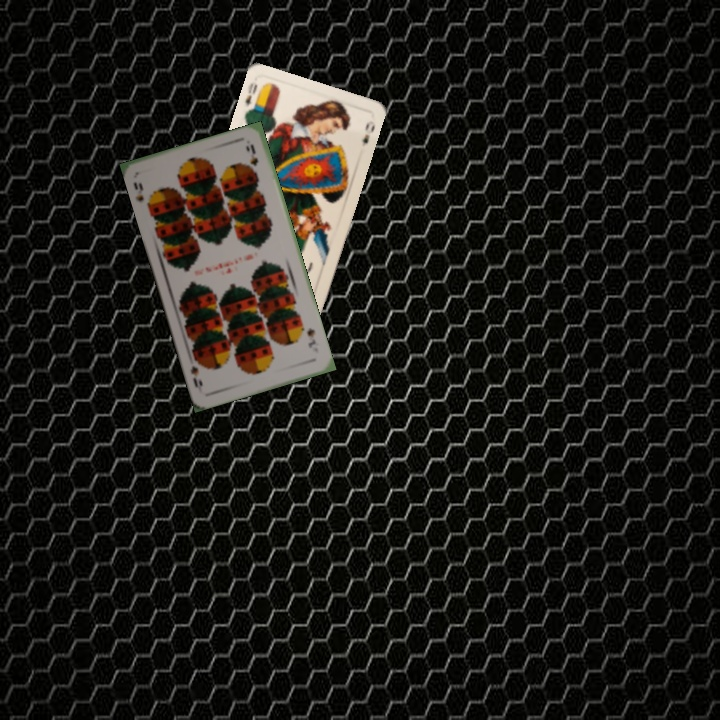EO: (241, 79, 265, 116)
S9: (129, 178, 153, 213), (303, 324, 318, 351)
